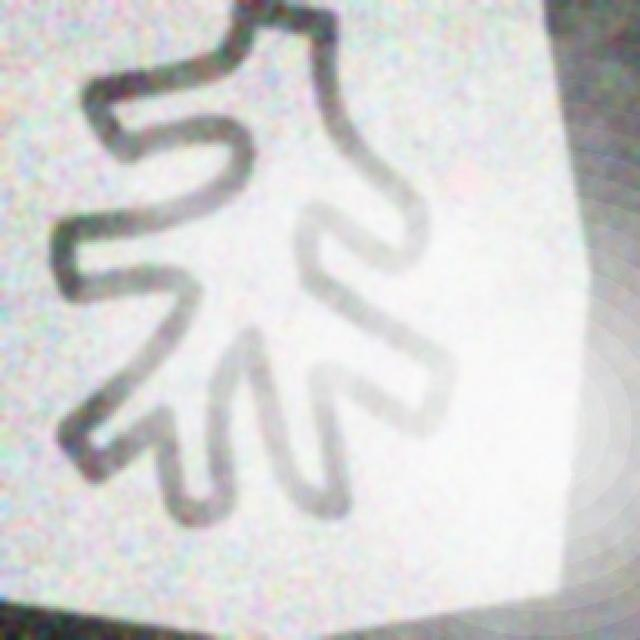coral: (26, 1, 493, 556)
